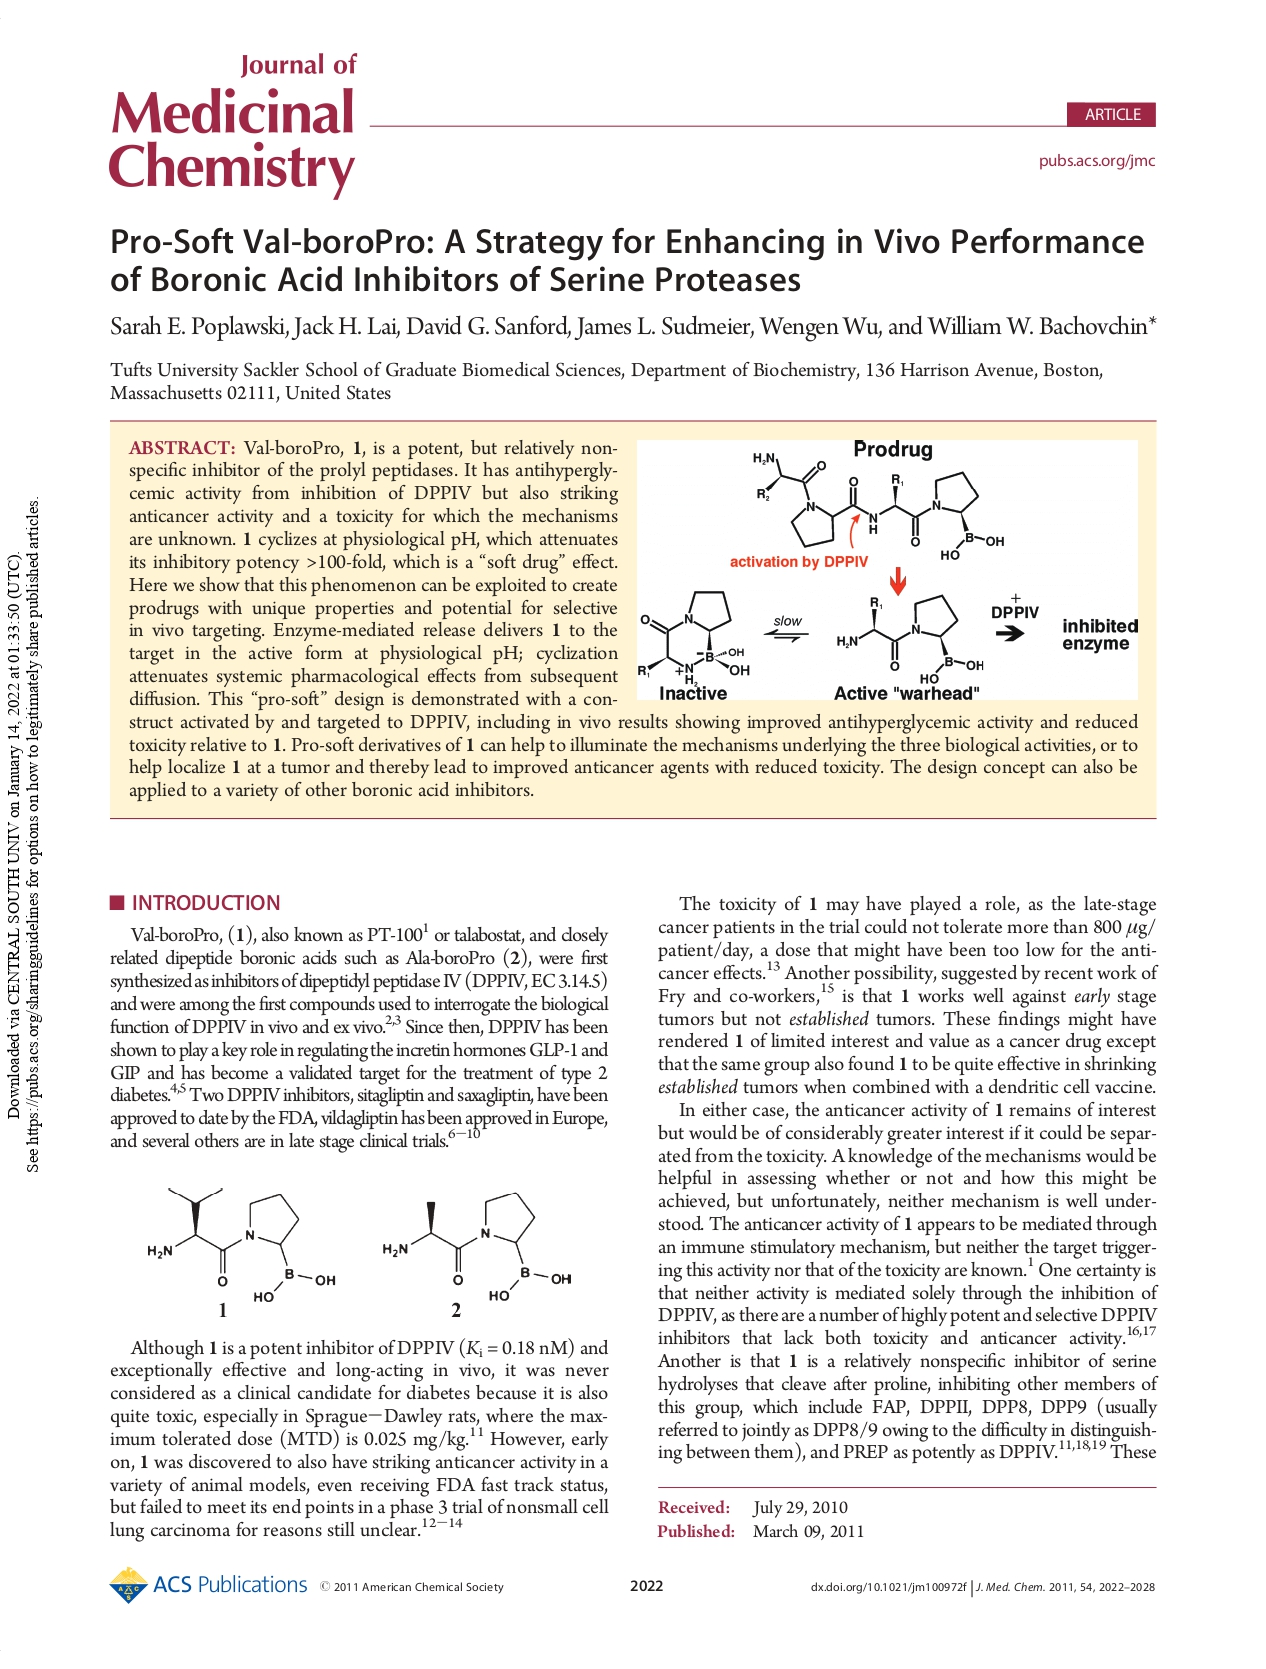exist_molecular: (751, 443, 1007, 563), (144, 1184, 340, 1303), (382, 1190, 576, 1301), (836, 589, 989, 685), (634, 588, 751, 685)
